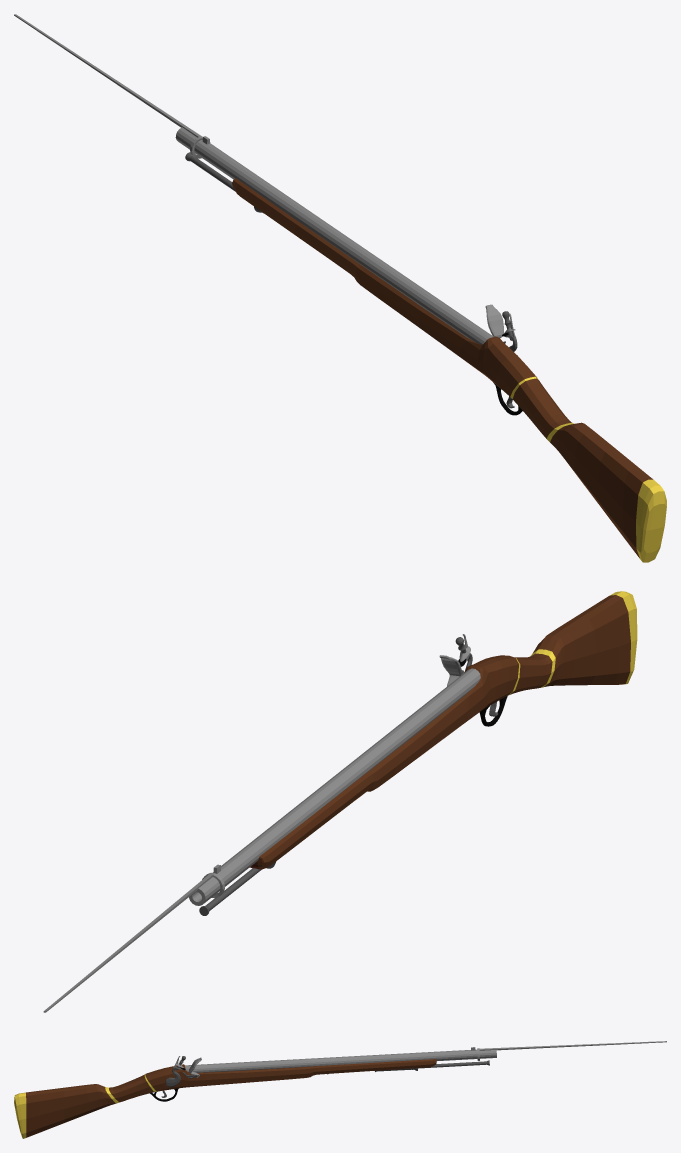
The model's file is mosquete_separado2.fbx.
The picture shows the model from 3 angles, top to bottom: view 1: azimuth 30°, elevation 25°; view 2: azimuth 150°, elevation 25°; view 3: azimuth 270°, elevation 25°; orthographic projection. The views are drawn at different scales.
Parts seen in each view (by area): view 1: mosquete, mosquete.001; view 2: mosquete, mosquete.001; view 3: mosquete, mosquete.001, mosquete.002.
Boxes of the visible parts, bbox=[...] form: mosquete: bbox=[175, 127, 666, 562]; mosquete.001: bbox=[14, 14, 210, 158]; mosquete: bbox=[189, 591, 637, 915]; mosquete.001: bbox=[43, 872, 224, 1012]; mosquete: bbox=[14, 1047, 496, 1138]; mosquete.001: bbox=[477, 1041, 666, 1060]; mosquete.002: bbox=[165, 1066, 182, 1087].
Bounding box in the file's own units: 30.77 × 58.58 × 420.
